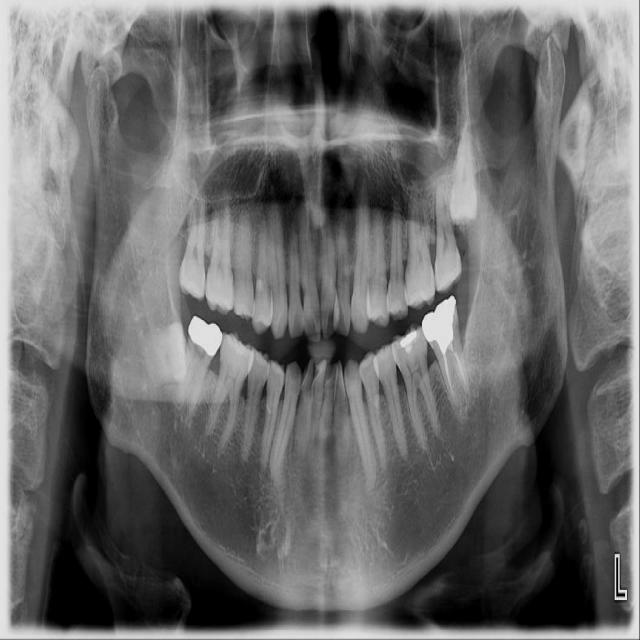Crown: (422, 296, 458, 343), (188, 313, 223, 359)
Filling: (398, 329, 418, 355)
Root Canal Treatment: (448, 342, 466, 391), (441, 344, 453, 386)
impacted tooth: (137, 321, 187, 385), (448, 117, 477, 226)
